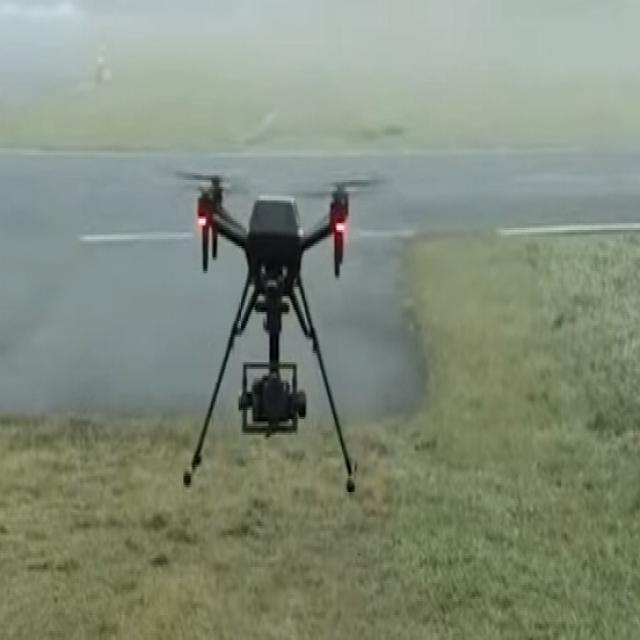drone: (139, 127, 415, 523)
